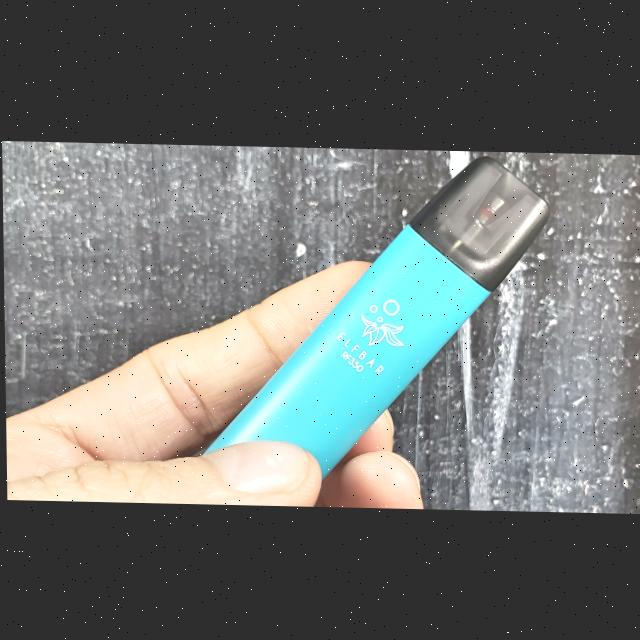vape: (160, 154, 552, 504)
